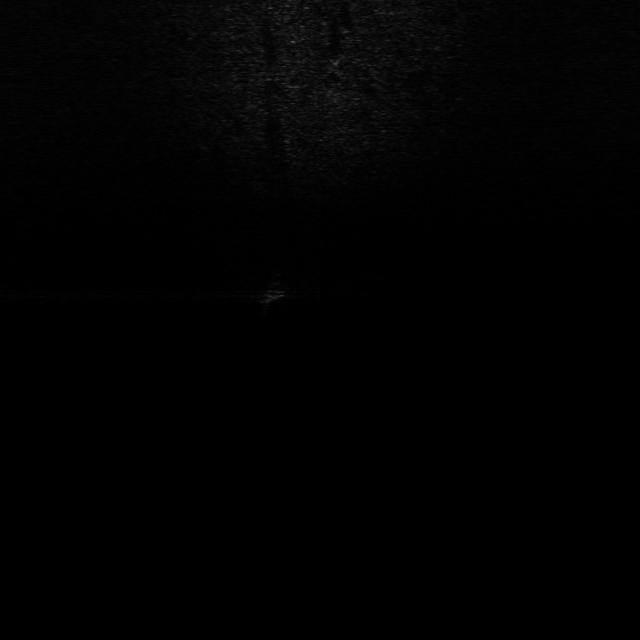human body: (253, 266, 288, 314)
